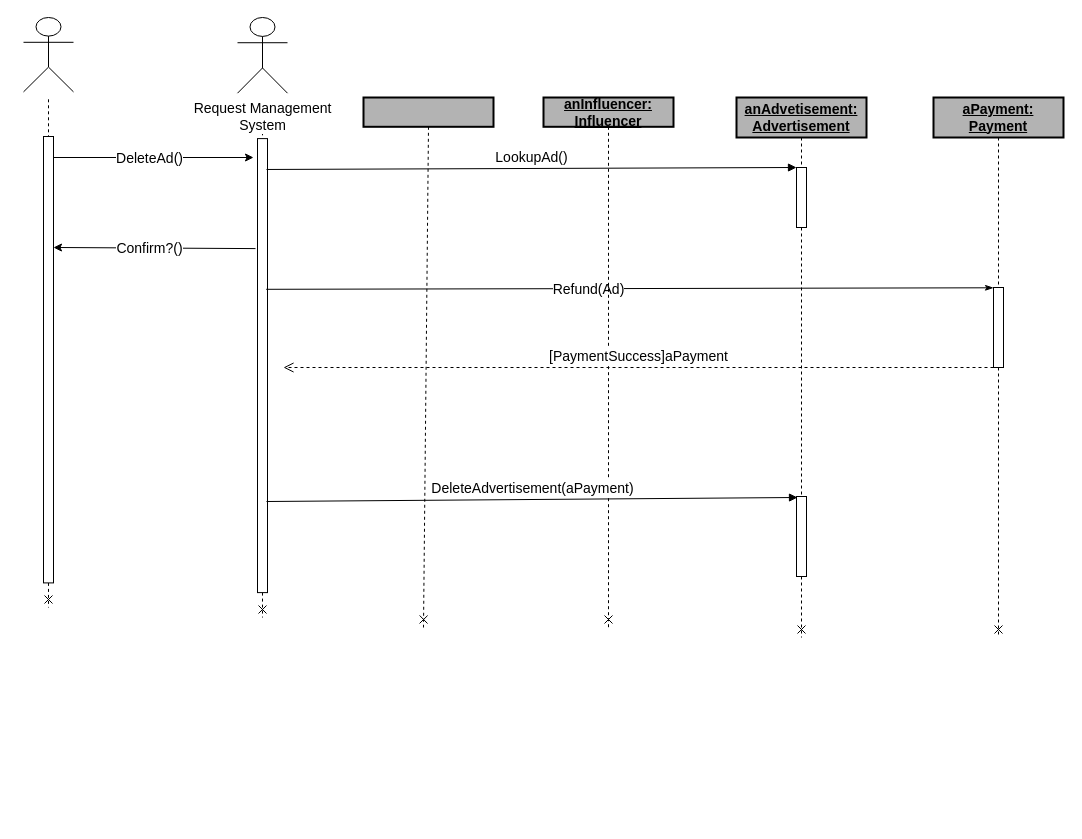
The diagram is 1082 pixels wide and 839 high, and some of its shapes have lost their labels. Here are the shapes that lost their labels. From the top down, the centre of each, then its label:
At point (48, 54): "aMarketer".
At point (428, 111): "aMarketer: Marketer".
